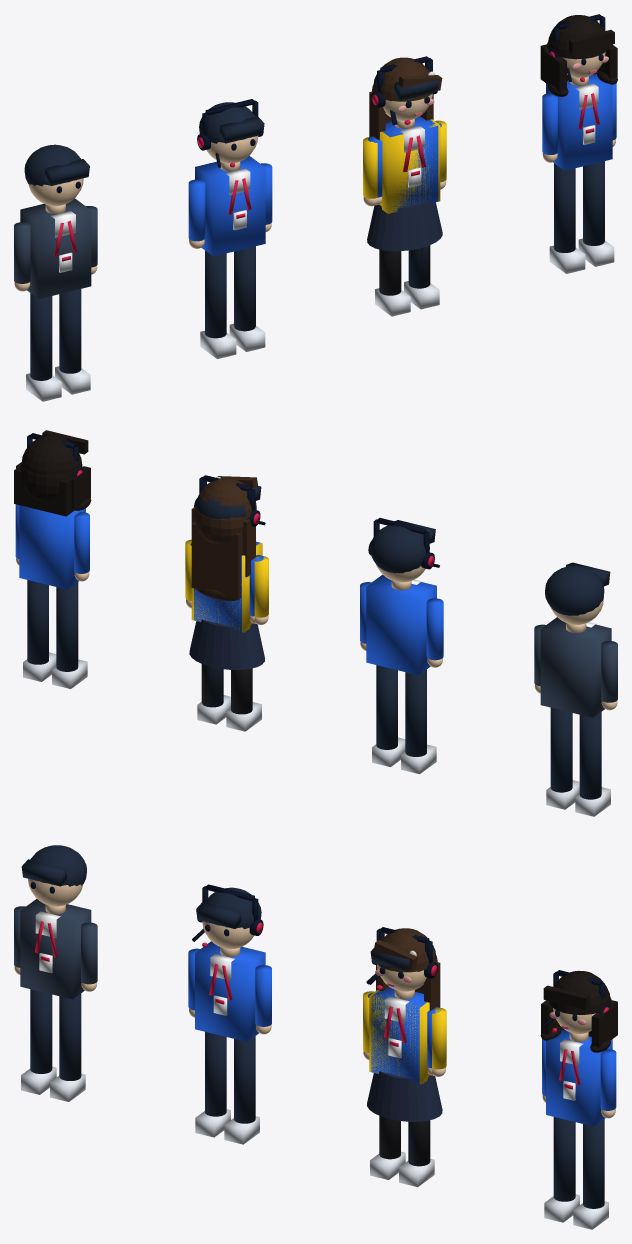
The model's file is characters.glb.
3 renders of one model, top to bottom at view 1: azimuth 30°, elevation 25°; view 2: azimuth 150°, elevation 25°; view 3: azimuth 330°, elevation 25°, orthographic.
Parts seen in each view (by area): view 1: Cube.056, Cube.030, Cube.016, Female_Long_Skirt, Cube.043, Cube.003, Cylinder.043, Cylinder.044, Cylinder.010, Cylinder.029, Cylinder.030, Cylinder.011 (+27 smaller); view 2: Cube.056, Cube.030, Cube.016, Female_Long_Skirt, Female_Long_Hair_Long_Back, NPC_Instructor_Hair_Top, Player_Consultant_Hair_Top, Cylinder.010, Cylinder.043, Cylinder.044, Cylinder.029, Female_Short_Hair_Cap (+24 smaller); view 3: Cube.056, Cube.030, Cube.016, Cube.003, Female_Long_Skirt, Cube.043, Cylinder.044, Cylinder.010, Cylinder.043, Cylinder.011, Cylinder.030, Cylinder.029 (+27 smaller).
Part boxes in pixels (x1=…): Cube.056: x1=20, y1=198, x2=91, y2=298; Cube.030: x1=195, y1=156, x2=265, y2=256; Cube.016: x1=546, y1=74, x2=612, y2=170; Female_Long_Skirt: x1=367, y1=200, x2=442, y2=251; Cube.043: x1=379, y1=119, x2=440, y2=213; Cube.003: x1=382, y1=116, x2=438, y2=212; Cylinder.043: x1=30, y1=293, x2=52, y2=380; Cylinder.044: x1=59, y1=289, x2=81, y2=373; Cylinder.010: x1=554, y1=163, x2=575, y2=252; Cylinder.029: x1=205, y1=250, x2=226, y2=338; Cylinder.030: x1=234, y1=246, x2=255, y2=331; Cylinder.011: x1=583, y1=161, x2=604, y2=245; Cube.056: x1=540, y1=617, x2=611, y2=717; Cube.030: x1=366, y1=574, x2=436, y2=675; Cube.016: x1=19, y1=505, x2=85, y2=589; Female_Long_Skirt: x1=189, y1=619, x2=264, y2=669; Female_Long_Hair_Long_Back: x1=191, y1=522, x2=242, y2=598; NPC_Instructor_Hair_Top: x1=545, y1=565, x2=604, y2=615; Player_Consultant_Hair_Top: x1=370, y1=523, x2=429, y2=573; Cylinder.010: x1=56, y1=582, x2=78, y2=671; Cylinder.043: x1=579, y1=712, x2=601, y2=799; Cylinder.044: x1=550, y1=707, x2=572, y2=792; Cylinder.029: x1=405, y1=669, x2=426, y2=756; Female_Short_Hair_Cap: x1=21, y1=435, x2=82, y2=477; Cube.056: x1=20, y1=899, x2=91, y2=999; Cube.030: x1=195, y1=941, x2=265, y2=1041; Cube.016: x1=546, y1=1029, x2=612, y2=1126; Cube.003: x1=371, y1=987, x2=427, y2=1083; Female_Long_Skirt: x1=367, y1=1071, x2=442, y2=1121; Cube.043: x1=369, y1=987, x2=429, y2=1084; Cylinder.044: x1=59, y1=993, x2=81, y2=1080; Cylinder.010: x1=553, y1=1117, x2=575, y2=1201; Cylinder.043: x1=30, y1=989, x2=52, y2=1073; Cylinder.011: x1=583, y1=1119, x2=604, y2=1208; Cylinder.030: x1=234, y1=1036, x2=255, y2=1123; Cylinder.029: x1=205, y1=1032, x2=226, y2=1116.
Bounding box in the file's own units: 4.13 × 1.59 × 0.3821.
